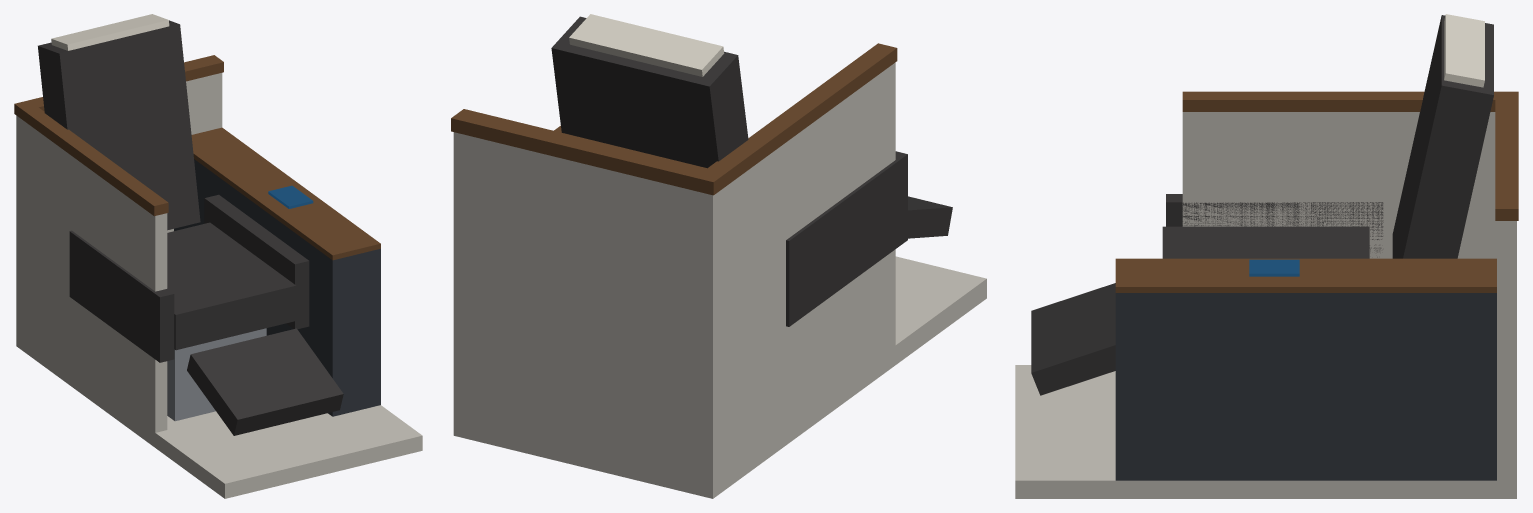
The model's file is ac_business_seat.glb.
The picture shows the model from 3 angles, left to right: view 1: azimuth 30°, elevation 25°; view 2: azimuth 150°, elevation 25°; view 3: azimuth 270°, elevation 25°; orthographic projection. The views are drawn at different scales.
Visible parts, largest first — view 1: ac_business_seat; view 2: ac_business_seat; view 3: ac_business_seat.
Boxes of the visible parts, box(x1,y1,x2,y2) form: ac_business_seat: box(14, 14, 422, 498); ac_business_seat: box(451, 14, 986, 498); ac_business_seat: box(1015, 14, 1518, 498).
Size of the model in its own units: 0.835 by 1.26 by 1.5.
